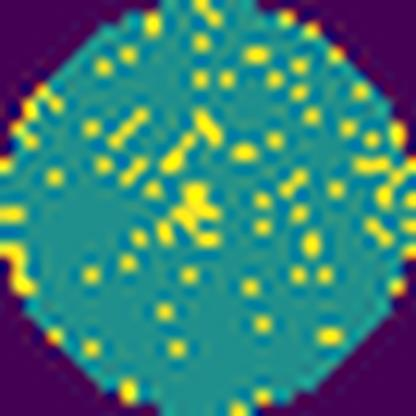Center: (159, 185, 225, 241)
